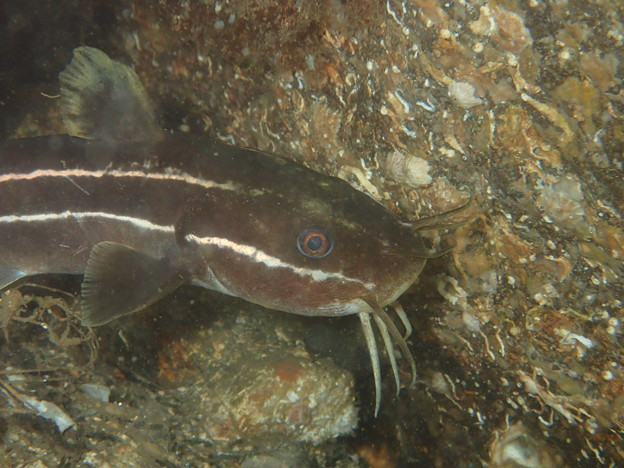gonzui: (1, 47, 474, 389)
